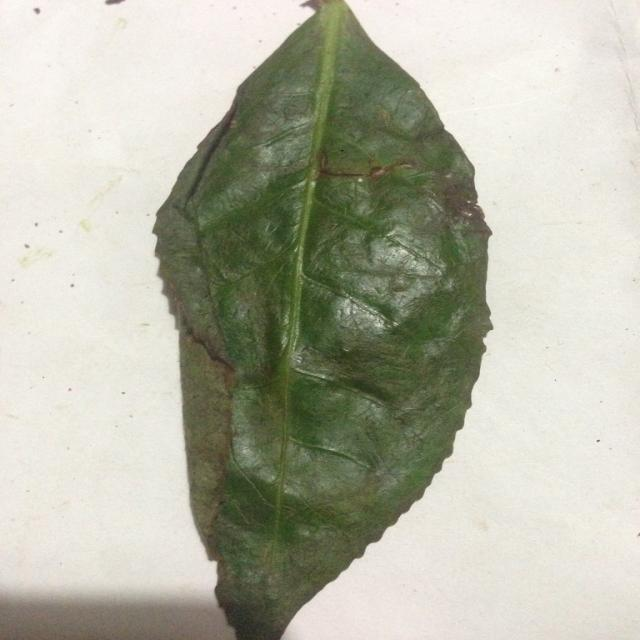Red Leaf Spot: (134, 0, 486, 640)
